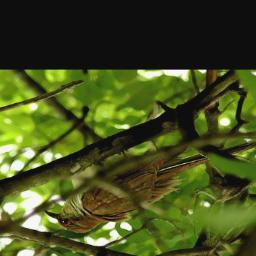Cuckoo: (43, 137, 256, 235)
